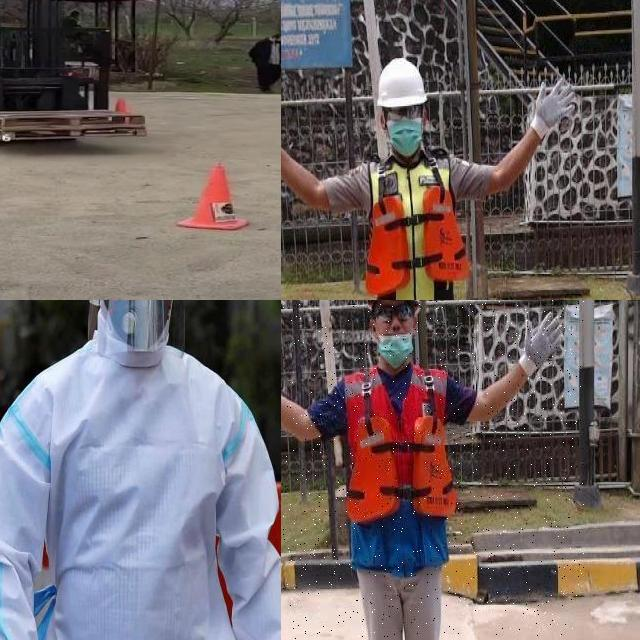GLASS: (371, 303, 418, 324), (384, 109, 424, 121)
GLOVE: (519, 311, 565, 377), (531, 78, 575, 139)
HELMET: (376, 57, 428, 109)
MASK: (109, 300, 172, 348)
VEST: (344, 363, 458, 567), (364, 156, 467, 300)
